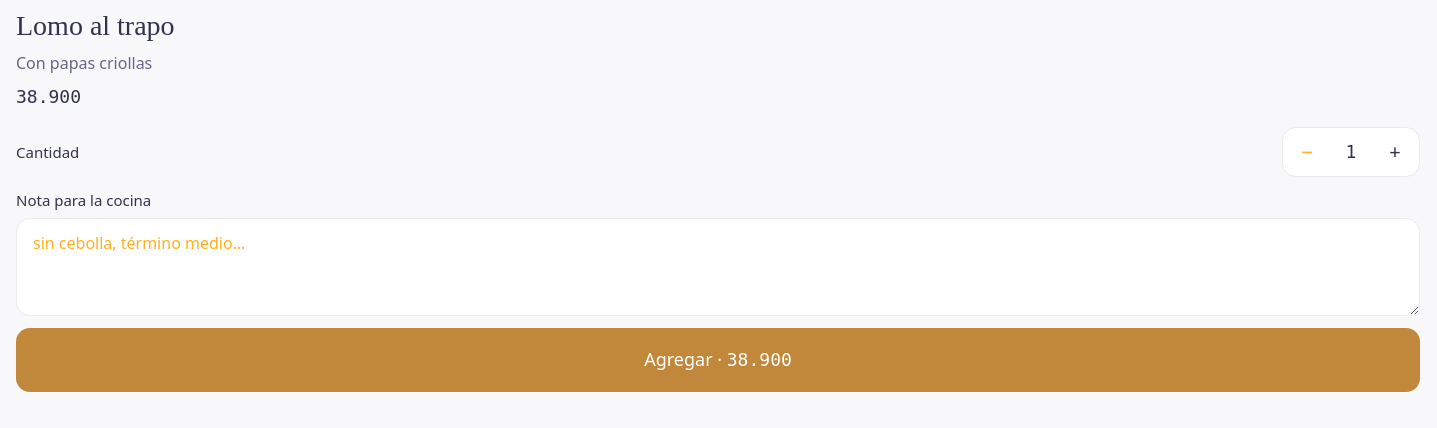
Scenario: adds two units with a note, confirms and offers the way back
The width and height of the screenshot is (1437, 428).
(page scrolled)
Click the button named "Más" at (1395, 152), box [1371,128,1419,176]
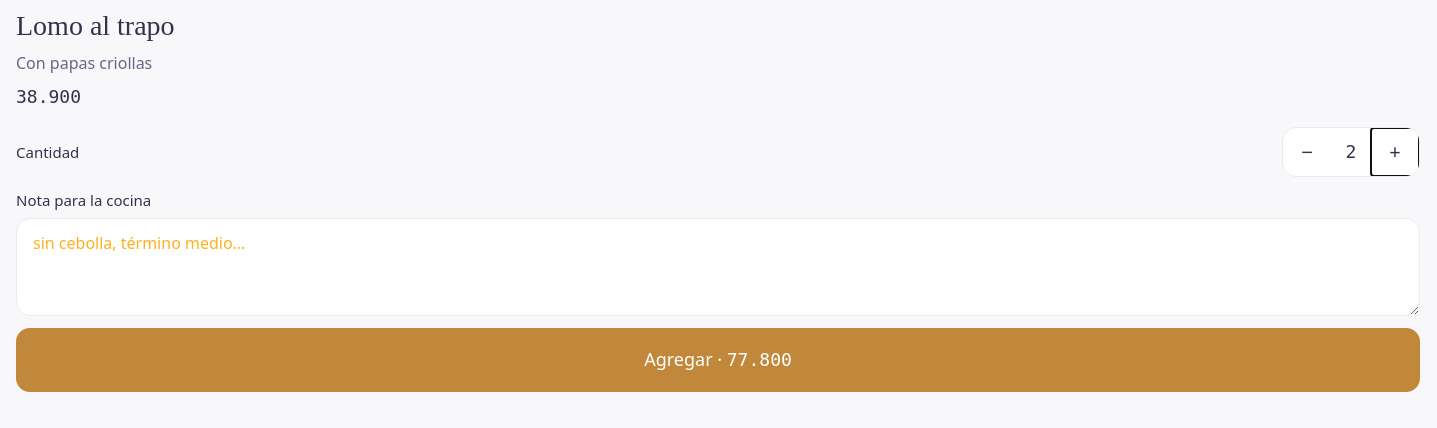
Type "sin cebolla" into the text box labelled "Nota para la cocina" at (718, 266), box [16,218,1420,316]
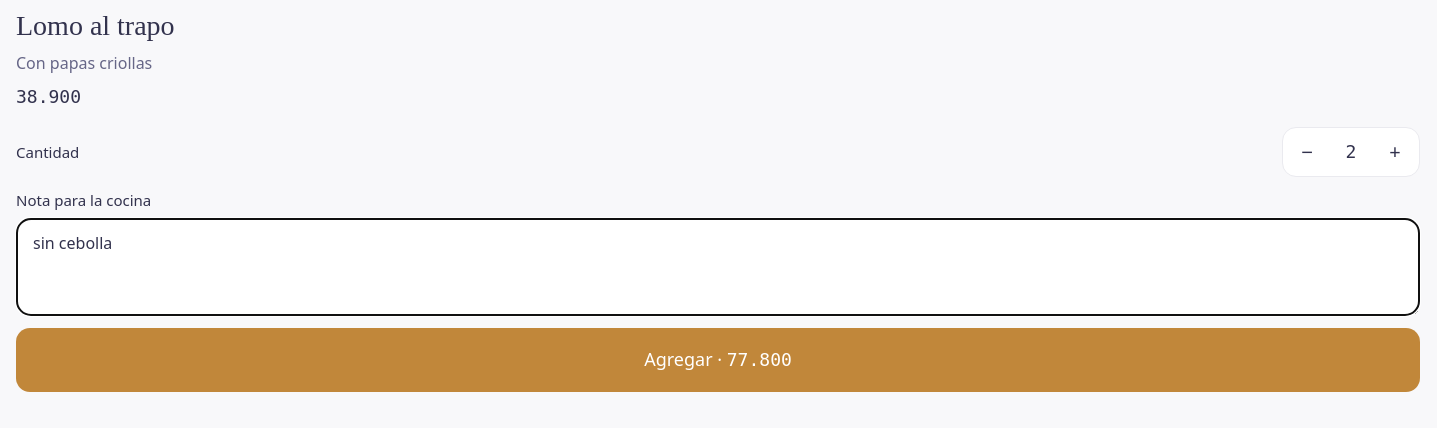
Click the button "Agregar · 77.800" at (718, 360), box [16,328,1420,392]
(page scrolled)
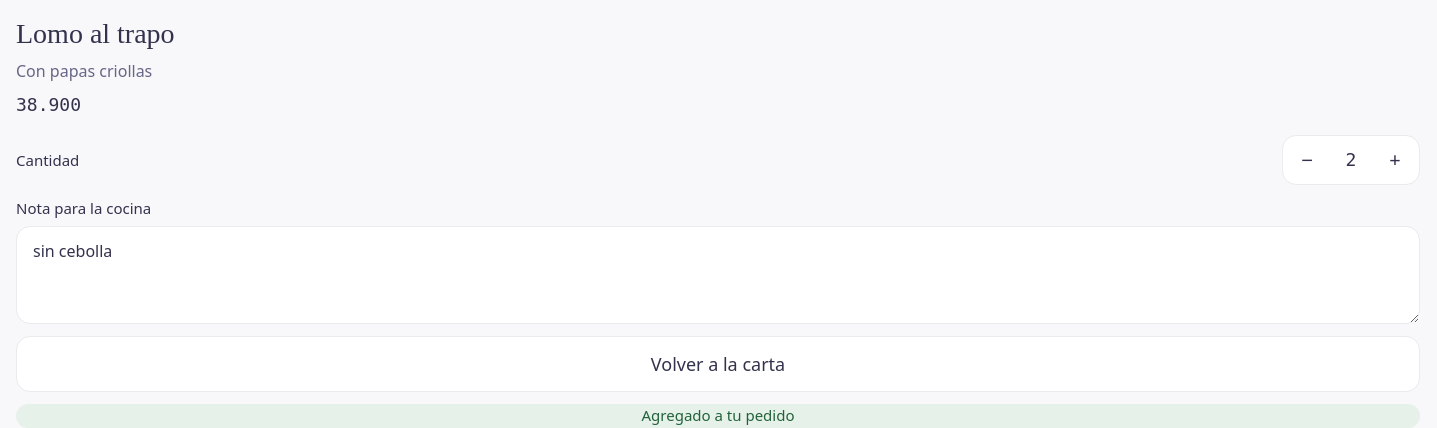
Result: the button "Agregar" is gone
